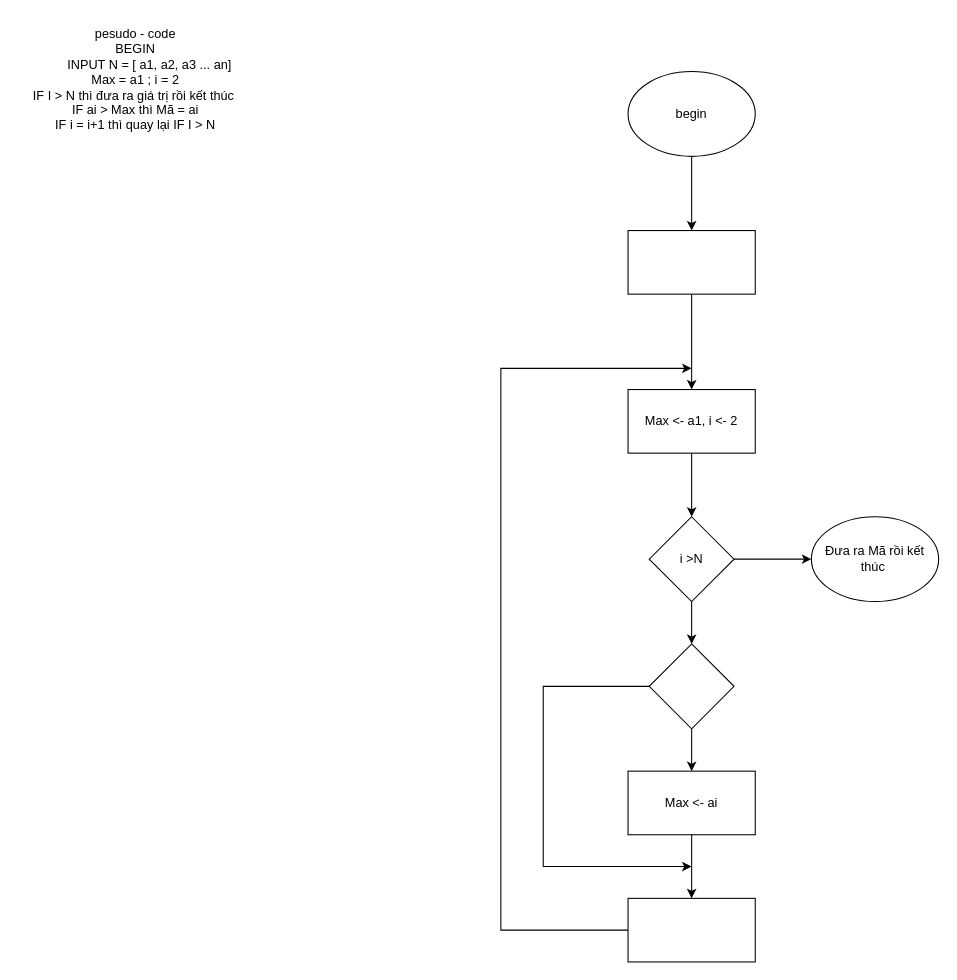
The diagram is 957 pixels wide and 980 high, and some of its shapes have lost their labels. The centre of each missing label's shape, as x and y in pixels:
"ai > Max" belongs at point (691, 686).
"i <- i+1" belongs at point (691, 929).
"input N=[a1,a2...an]" belongs at point (691, 261).
